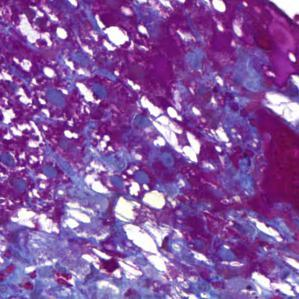ballooning: (113, 187, 180, 256)
